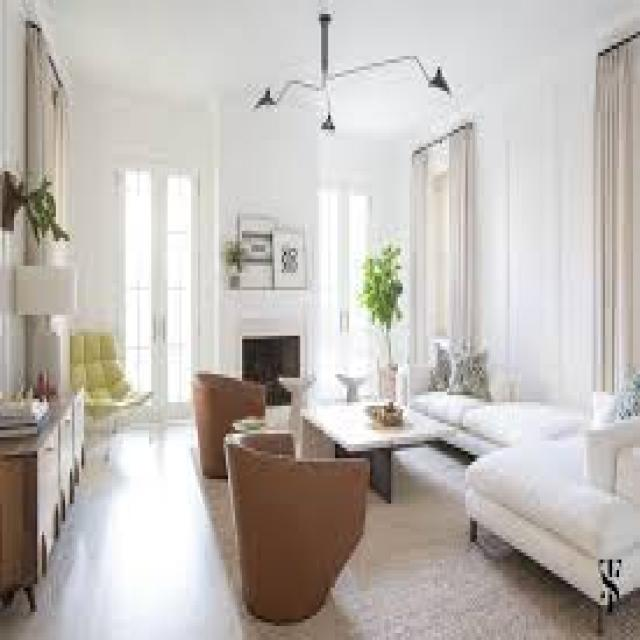Chair: (218, 429, 376, 625), (66, 326, 152, 436), (194, 371, 265, 474)
Lamp: (10, 260, 72, 390)
Sofa: (416, 330, 640, 598)
Table: (226, 0, 456, 152), (302, 394, 452, 478)
